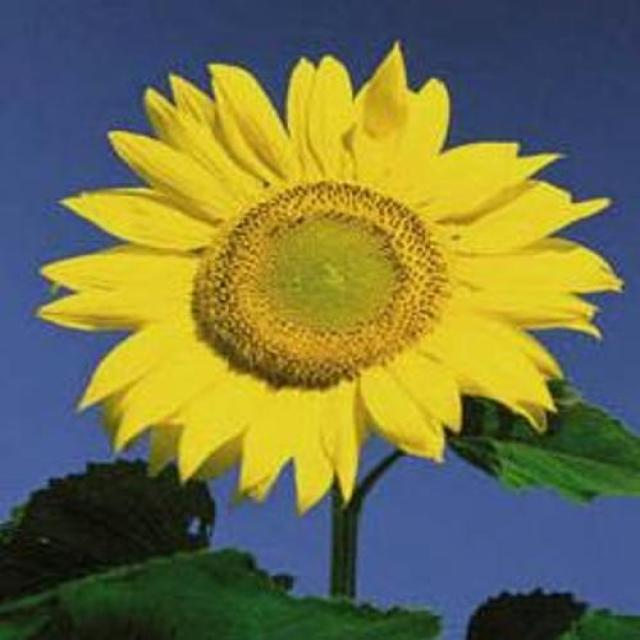sunflower: (18, 31, 640, 531)
